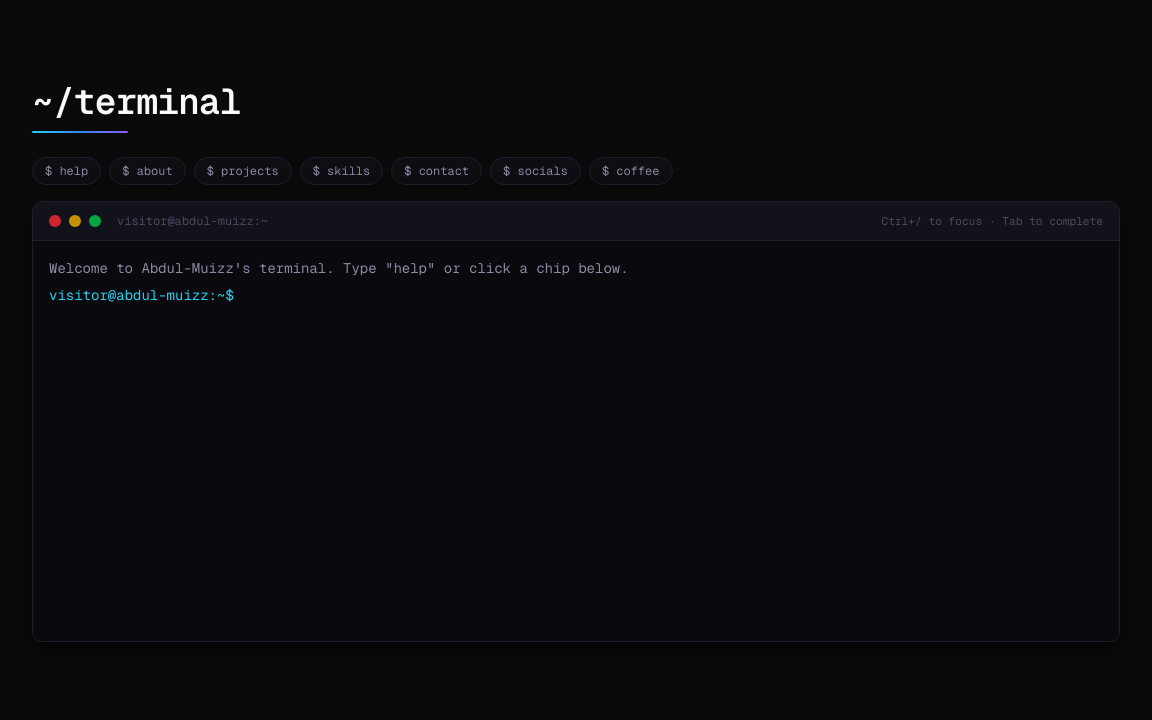
Test case: HomeTerminal › runs the socials command
The width and height of the screenshot is (1152, 720).
Click the button "$ socials" at coordinates (536, 171), box [490, 157, 581, 185]
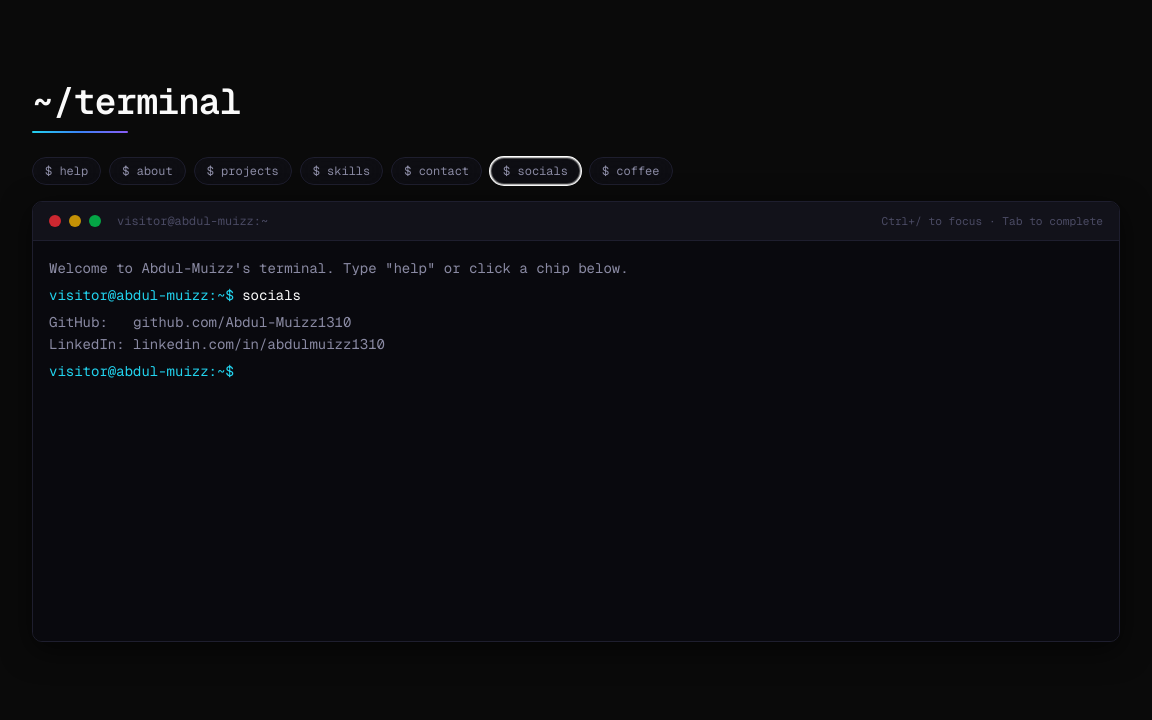
Expected: the text "linkedin.com" is shown, [49, 313, 385, 354]
